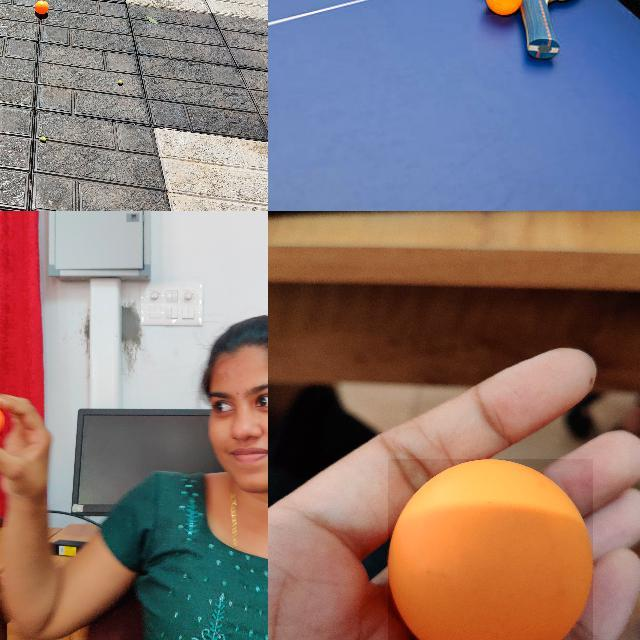ping-pong-ball: (388, 458, 594, 639), (486, 0, 525, 17), (34, 0, 48, 14)
